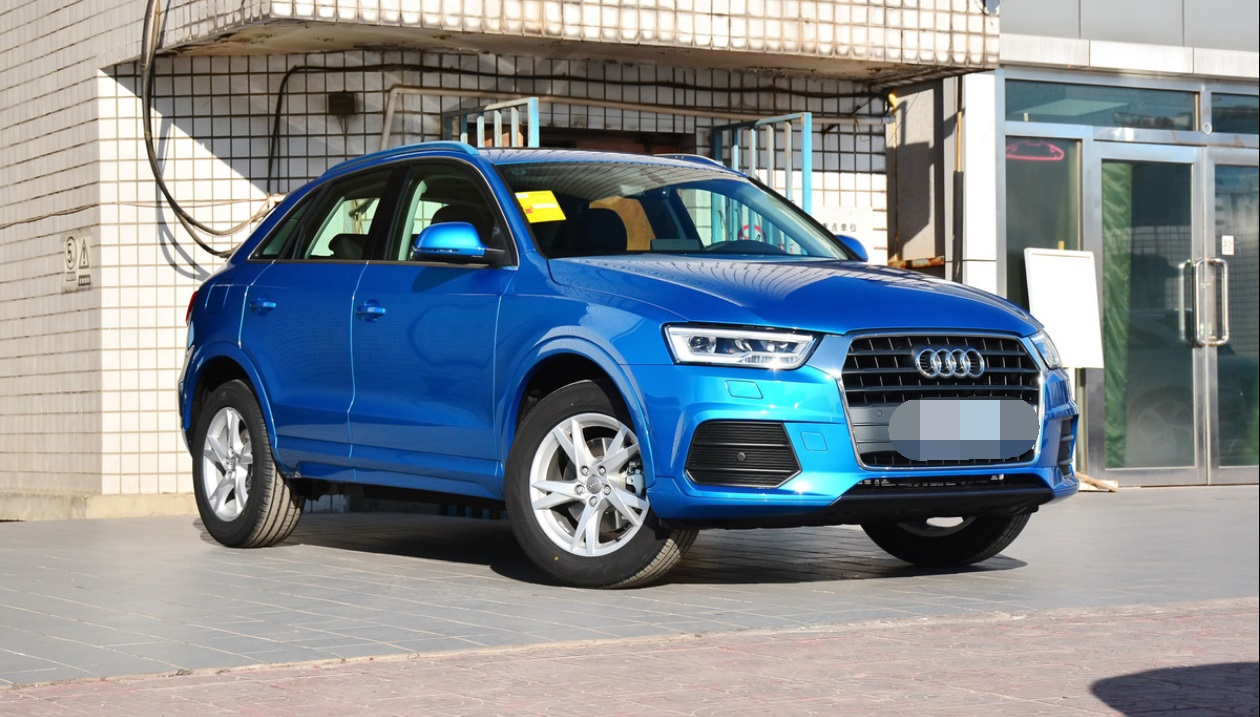SUV: (175, 138, 1084, 595)
